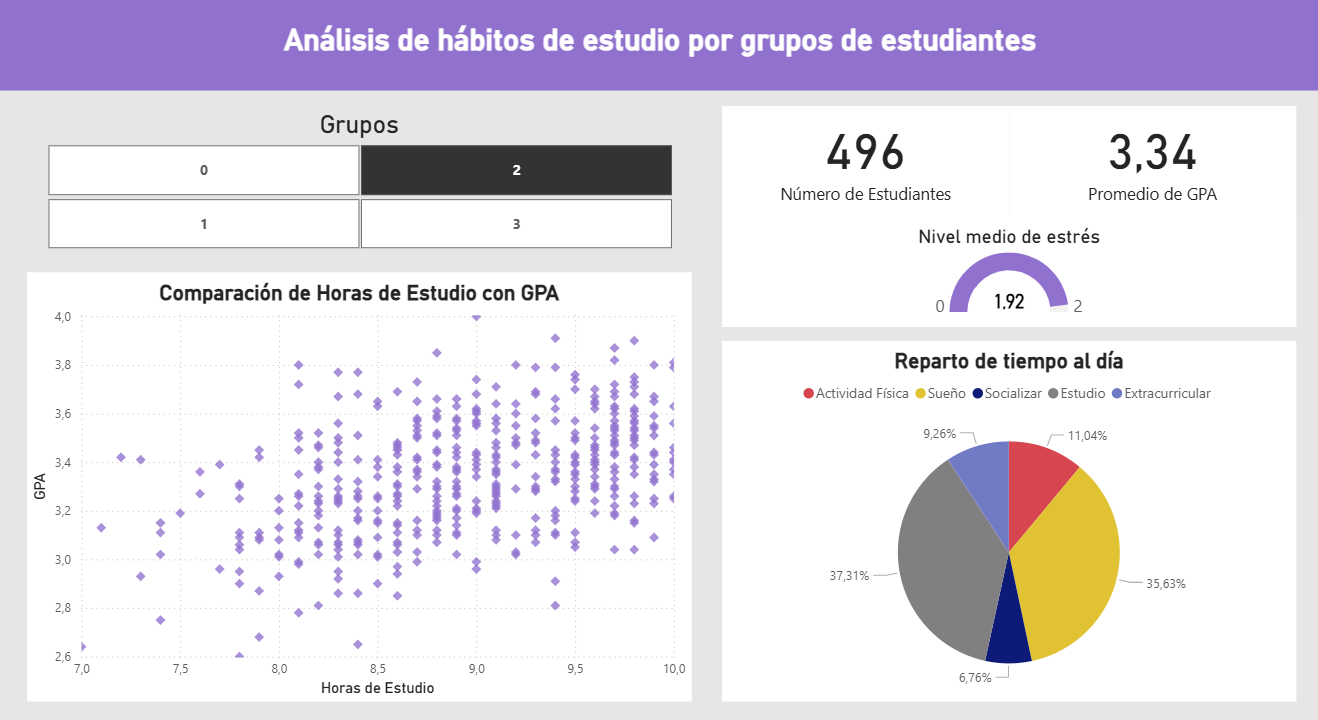

Layout of this report page (visuals, bound fields, positions):
{"tool":"powerbi","page":{"name":"Página 1","canvas":[1280,720],"ordinal":0},"visuals":[{"type":"slicer","title":"Grupos","fields":{"Values":["clusters_students_visualization.Cluster"]},"box":[28.6,120,641.4,145.7],"z":0},{"type":"card","fields":{"Values":["CountNonNull(clusters_students_visualization.Cluster)"]},"box":[699.8,120.6,277.7,106.8],"z":1000},{"type":"scatterChart","title":"Comparación de Horas de Estudio con GPA","fields":{"X":["clusters_students_visualization.Study_Hours_Per_Day"],"Y":["clusters_students_visualization.GPA"]},"box":[28.6,281.4,641.4,414.3],"z":2000},{"type":"pieChart","title":"Reparto de tiempo al día","fields":{"Y":["Avg(clusters_students_visualization.Physical_Activity_Hours_Per_Day)","Avg(clusters_students_visualization.Sleep_Hours_Per_Day)","Avg(clusters_students_visualization.Social_Hours_Per_Day)","Avg(clusters_students_visualization.Study_Hours_Per_Day)","Avg(clusters_students_visualization.Extracurricular_Hours_Per_Day)"]},"box":[699.8,348,554.1,348],"z":3000},{"type":"card","title":"Promedio de GPA","fields":{"Values":["Avg(clusters_students_visualization.GPA)"]},"box":[977.5,120.6,276.4,106.8],"z":4000},{"type":"gauge","title":"Nivel medio de estrés","fields":{"Y":["Avg(clusters_students_visualization.Stress_Level)"]},"box":[700,227.1,554.3,107.1],"z":5000},{"type":"textbox","box":[0,17.1,1280,88.6],"z":6000}]}

Visuals, with their boxes in screenshot pixels (x1, y1, x2, y2), scaled from the page's 1280x720 canvas onto the 1318x720 screenshot:
"Grupos" slicer: rect(29, 120, 690, 266)
card - CountNonNull(clusters_students_visualization.Cluster): rect(721, 121, 1007, 227)
"Comparación de Horas de Estudio con GPA" scatterChart: rect(29, 281, 690, 696)
"Reparto de tiempo al día" pieChart: rect(721, 348, 1291, 696)
"Promedio de GPA" card: rect(1007, 121, 1291, 227)
"Nivel medio de estrés" gauge: rect(721, 227, 1292, 334)
textbox: rect(0, 17, 1317, 106)
